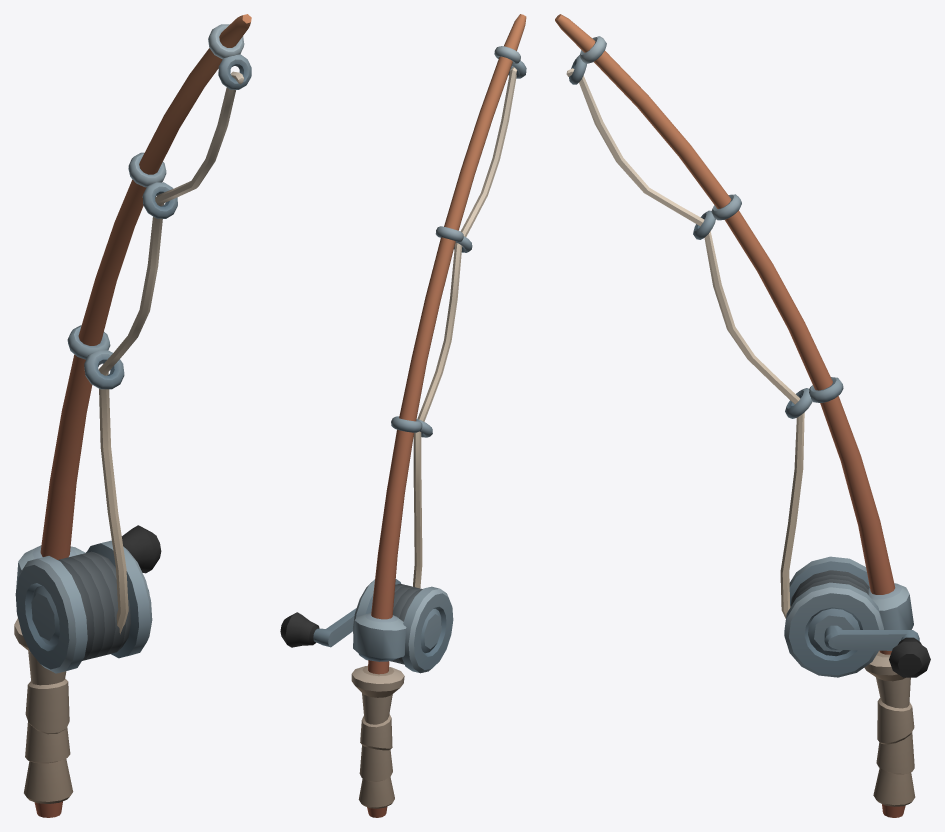
The model's file is fishing_rod_base.fbx.
The picture shows the model from 3 angles, left to right: view 1: azimuth 30°, elevation 25°; view 2: azimuth 150°, elevation 25°; view 3: azimuth 270°, elevation 25°; orthographic projection. The views are drawn at different scales.
Visible parts, largest first — view 1: fishing_rod_base, fishing_rod_base_reelhandle; view 2: fishing_rod_base, fishing_rod_base_reelhandle; view 3: fishing_rod_base, fishing_rod_base_reelhandle.
Boxes of the visible parts, x1=… form: fishing_rod_base: x1=14, y1=14, x2=251, y2=817; fishing_rod_base_reelhandle: x1=86, y1=525, x2=161, y2=592; fishing_rod_base: x1=351, y1=14, x2=526, y2=817; fishing_rod_base_reelhandle: x1=280, y1=608, x2=356, y2=647; fishing_rod_base: x1=555, y1=14, x2=915, y2=817; fishing_rod_base_reelhandle: x1=824, y1=625, x2=930, y2=677.
Bounding box in the file's own units: 0.4509 × 2.61 × 1.11.
